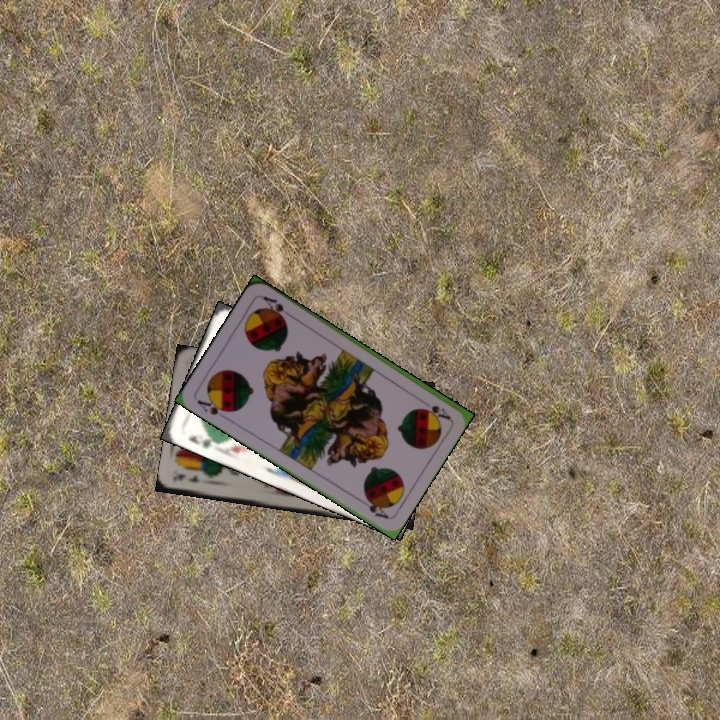EK: (172, 470, 203, 485)
GK: (185, 431, 219, 451)
SA: (193, 394, 233, 418), (423, 401, 453, 423)
